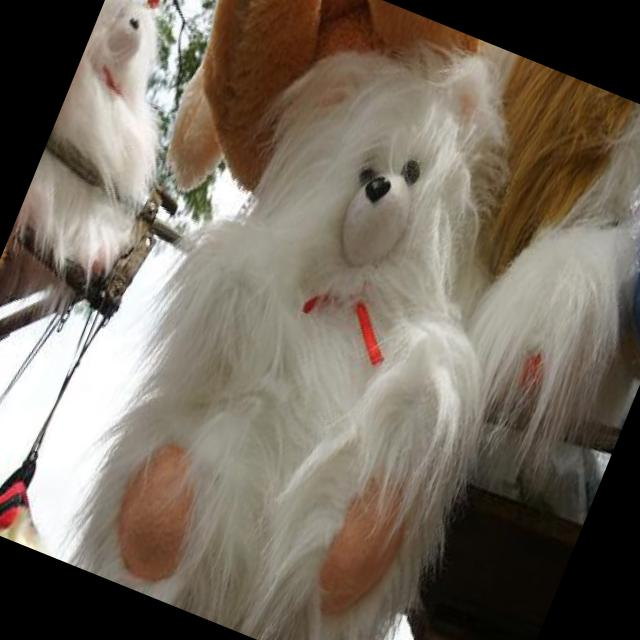teddy bear: (66, 0, 604, 640), (365, 43, 640, 433), (145, 0, 489, 273), (0, 0, 248, 300)
